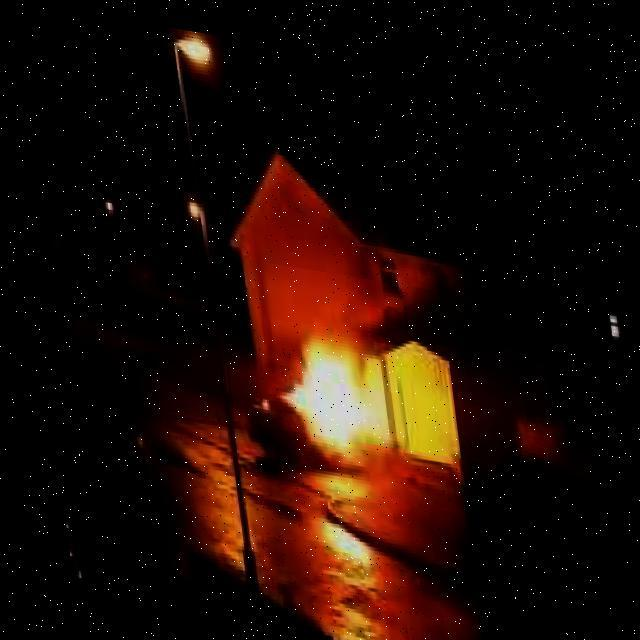Fire: (224, 316, 389, 468)
